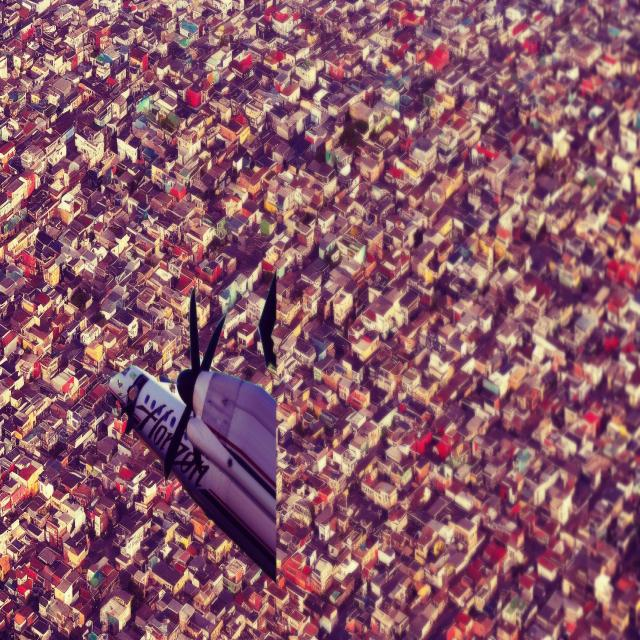airplane: (108, 284, 278, 584)
